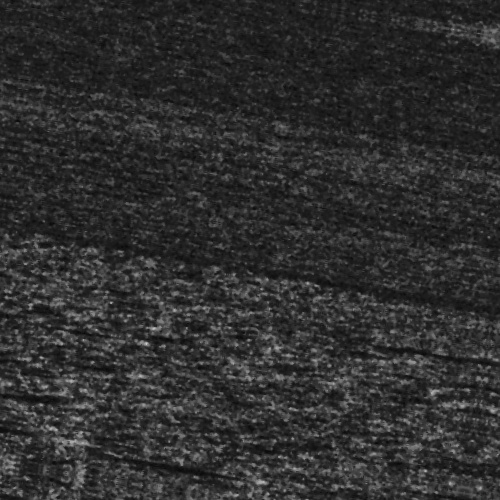object: (84, 417, 137, 434), (254, 470, 337, 479), (100, 458, 111, 469)
shadow: (19, 417, 110, 434), (0, 458, 105, 469), (172, 470, 296, 479), (381, 317, 500, 326), (479, 452, 500, 461)
